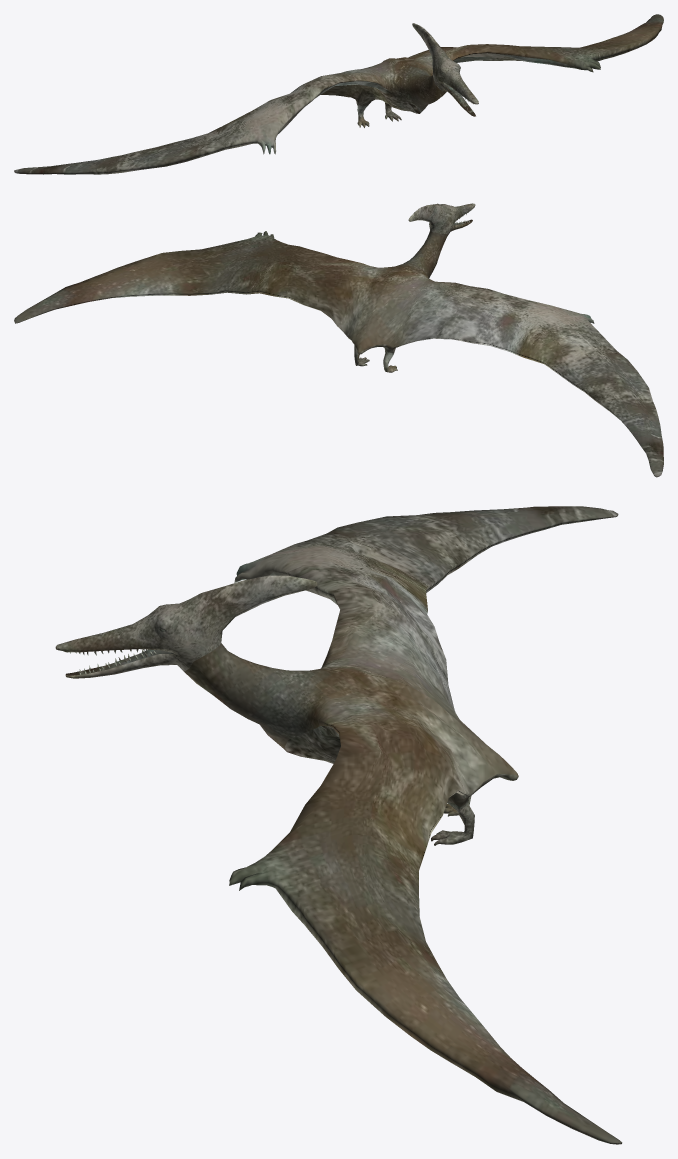
The model's file is skywing_2.glb.
3 renders of one model, top to bottom at view 1: azimuth 30°, elevation 25°; view 2: azimuth 150°, elevation 25°; view 3: azimuth 270°, elevation 25°, orthographic. The views are drawn at different scales.
Bounding box in the file's own units: 617 × 118 × 235.
1 material, 1 textured.
